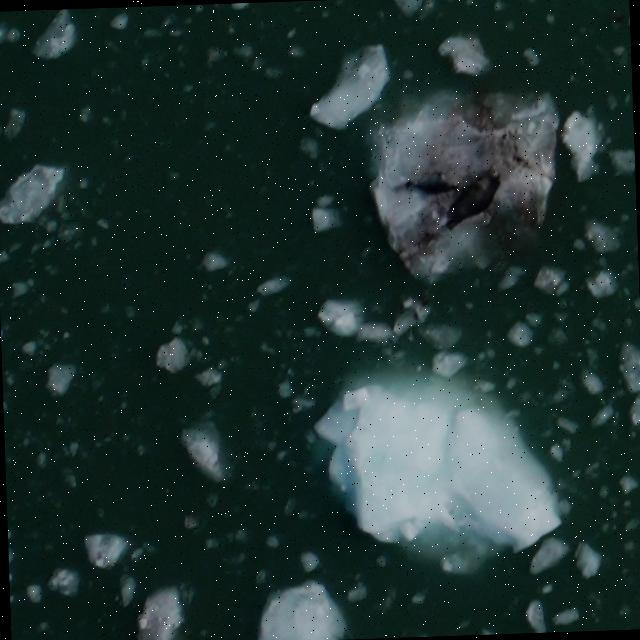seal: (436, 163, 507, 234), (389, 165, 462, 201)
